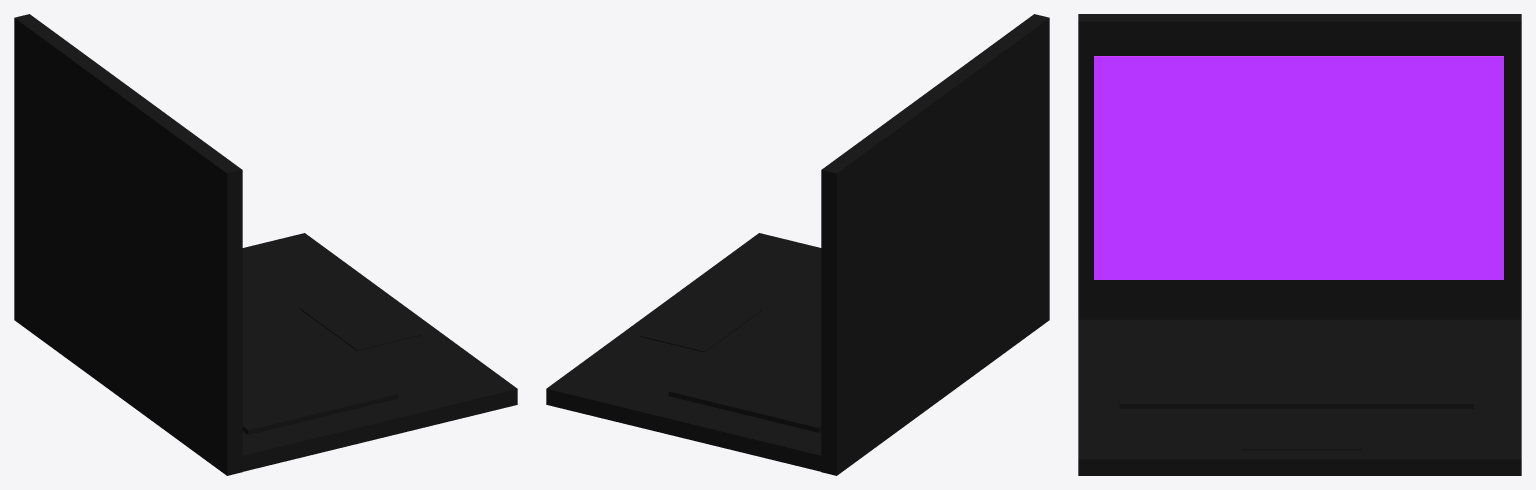
Rendered from laptop.glb.
3 renders of one model, left to right at view 1: azimuth 30°, elevation 25°; view 2: azimuth 150°, elevation 25°; view 3: azimuth 270°, elevation 25°, orthographic. The views are drawn at different scales.
Parts seen in each view (by area): view 1: Cube.031, Cube.032, Cube.035, Cube.034; view 2: Cube.031, Cube.032, Cube.034, Cube.035; view 3: Cube.033, Cube.032, Cube.031, Cube.034, Cube.035.
Boxes of the visible parts, x1=… form: Cube.031: x1=14, y1=14, x2=242, y2=475; Cube.032: x1=228, y1=233, x2=517, y2=475; Cube.035: x1=299, y1=292, x2=421, y2=351; Cube.034: x1=242, y1=282, x2=398, y2=434; Cube.031: x1=821, y1=14, x2=1049, y2=475; Cube.032: x1=546, y1=233, x2=821, y2=471; Cube.034: x1=668, y1=280, x2=821, y2=432; Cube.035: x1=640, y1=293, x2=762, y2=352; Cube.033: x1=1094, y1=56, x2=1503, y2=279; Cube.032: x1=1078, y1=319, x2=1521, y2=475; Cube.031: x1=1078, y1=14, x2=1521, y2=319; Cube.034: x1=1119, y1=384, x2=1473, y2=403; Cube.035: x1=1242, y1=416, x2=1361, y2=450.
Bounding box in the file's own units: 1.02 × 1.02 × 1.3.
